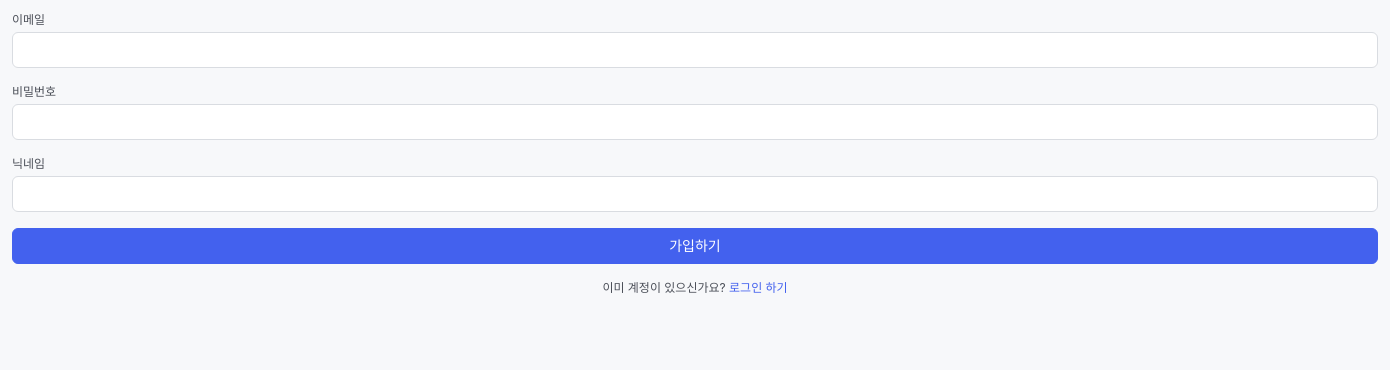
Test case: SignupForm › signup API가 실패하면 에러 메시지를 표시한다
Type "user@example.com" into the field labelled "이메일".
click(695, 50); type("user@example.com")  # box [12,32,1378,68]
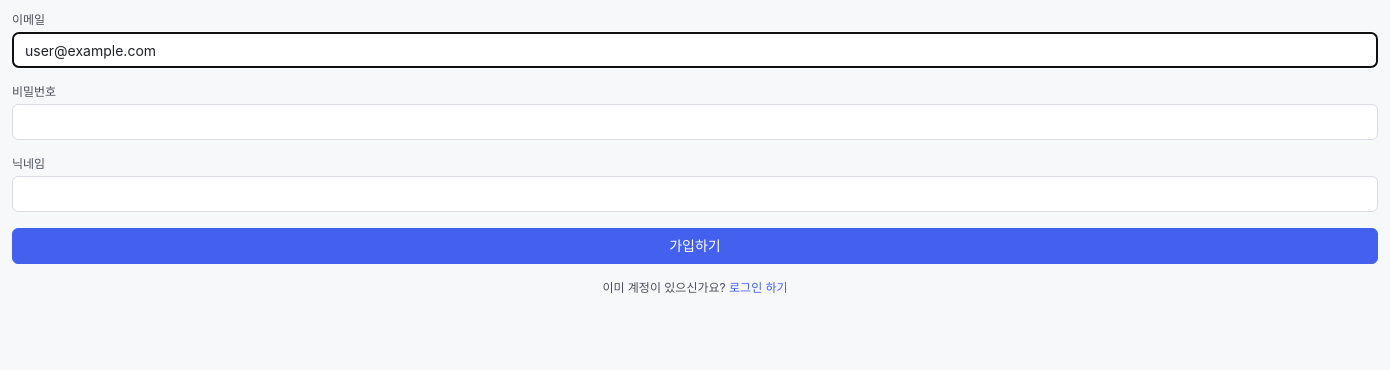
Type "password123" into the password field labelled "비밀번호".
click(695, 122); type("password123")  # box [12,104,1378,140]
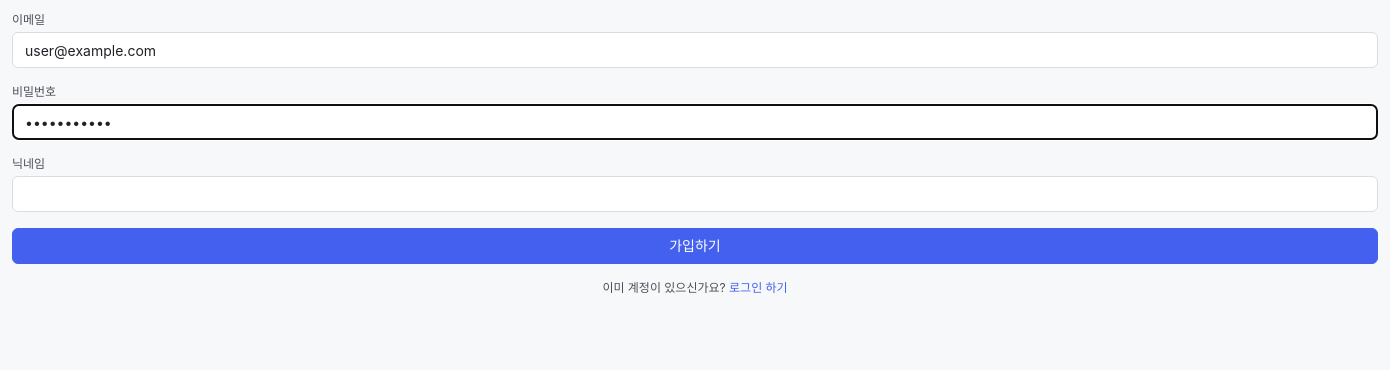
Type "테스터" into the field labelled "닉네임".
click(695, 194); type("테스터")  # box [12,176,1378,212]
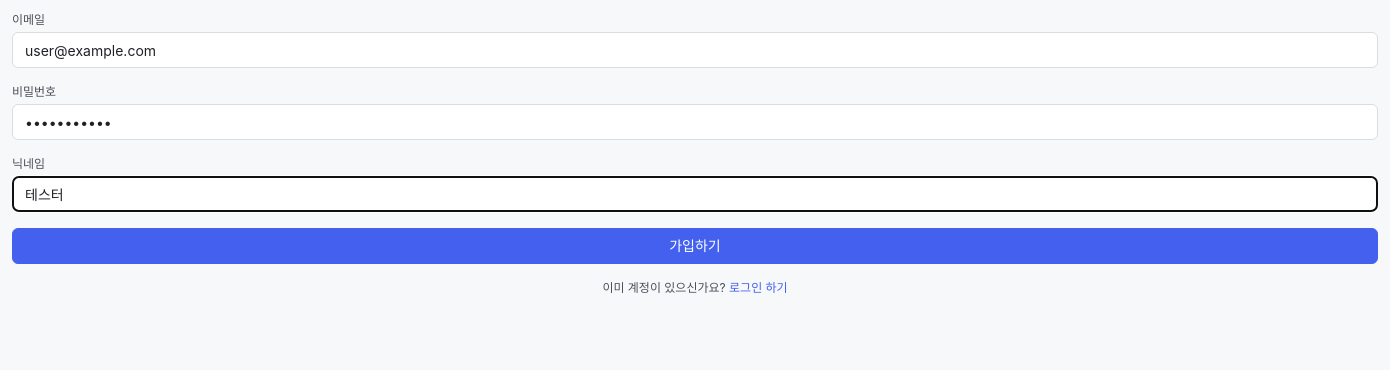
Click the button "가입하기".
click(695, 246)  # box [12,228,1378,264]
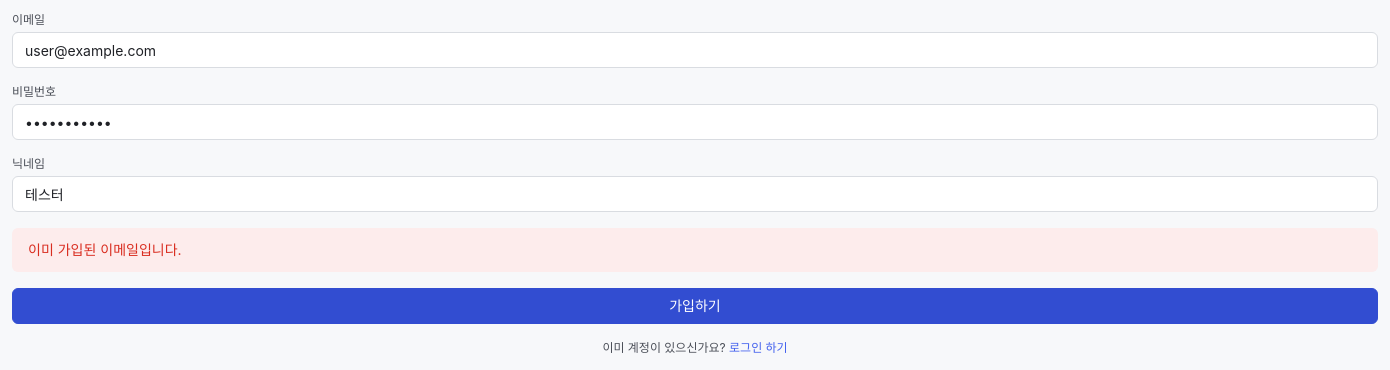
Expected: the text "이미 가입된 이메일입니다." is shown, [12,228,1378,272]
